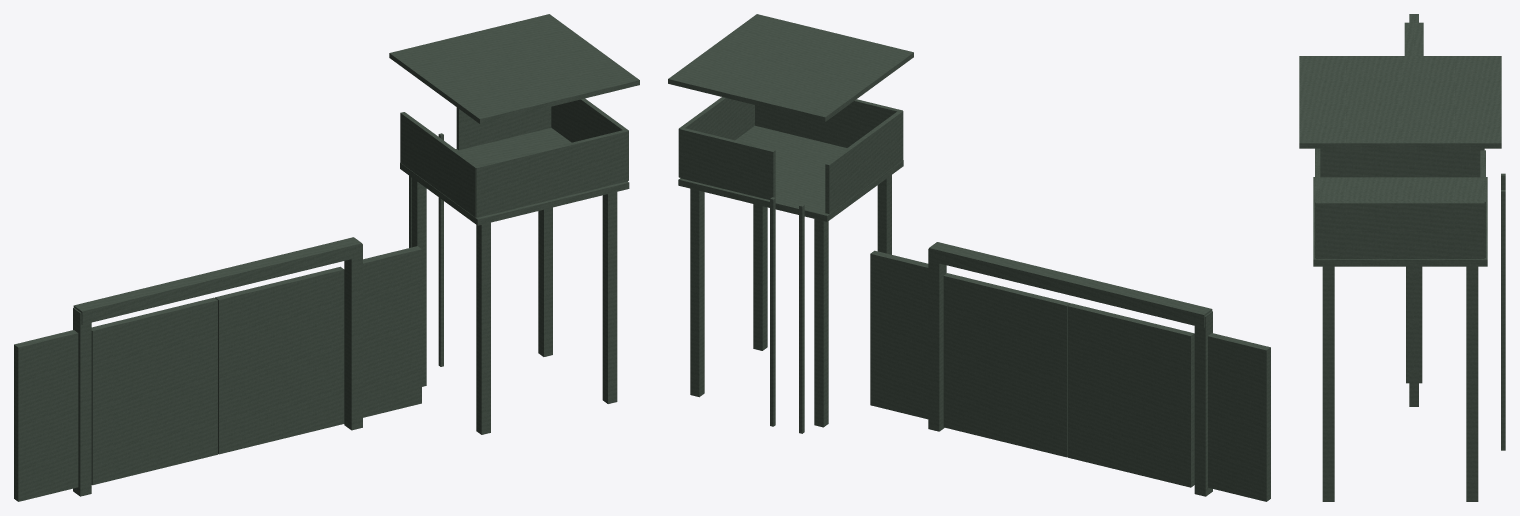
File: PZ_Blackline_Simple_Collision_HELPERS_ONLY.glb
3 views of the same model, side by side, from view 1: azimuth 30°, elevation 25°; view 2: azimuth 150°, elevation 25°; view 3: azimuth 270°, elevation 25° (orthographic). The views are drawn at different scales.
Visible parts, largest first — view 1: UCX_RightGate_SwingLeaf, UCX_LeftGate_SwingLeaf, UCX_Tower_Roof, UCX_Gate_WestWing, UCX_Gate_EastWing, UCX_Tower_BackRail, UCX_Gate_OverheadLintel, UCX_Tower_SideRail_L, UCX_Tower_Deck_Plate, UCX_Tower_Post_+1.50_+1.32, UCX_Gate_EastPillar, UCX_Tower_Post_-1.50_+1.32 (+6 smaller); view 2: UCX_LeftGate_SwingLeaf, UCX_RightGate_SwingLeaf, UCX_Tower_Roof, UCX_Gate_WestWing, UCX_Gate_EastWing, UCX_Tower_Deck_Plate, UCX_Gate_OverheadLintel, UCX_Tower_FrontRail_Right, UCX_Tower_SideRail_L, UCX_Tower_BackRail, UCX_Tower_Post_-1.50_-1.32, UCX_Tower_Post_+1.50_-1.32 (+7 smaller); view 3: UCX_Tower_Roof, UCX_Tower_SideRail_R, UCX_Tower_Deck_Plate, UCX_Tower_SideRail_L, UCX_Tower_Post_+1.50_-1.32, UCX_Tower_Post_+1.50_+1.32, UCX_Gate_EastWing, UCX_Ladder_Side_R, UCX_Gate_EastPillar, UCX_Gate_OverheadLintel, UCX_Tower_FrontRail_Right, UCX_Tower_BackRail.
Part boxes in pixels (bbox=[...]): UCX_RightGate_SwingLeaf: bbox=[215, 266, 344, 454]; UCX_LeftGate_SwingLeaf: bbox=[91, 297, 217, 485]; UCX_Tower_Roof: bbox=[389, 14, 639, 123]; UCX_Gate_WestWing: bbox=[14, 330, 78, 501]; UCX_Gate_EastWing: bbox=[363, 246, 421, 417]; UCX_Tower_BackRail: bbox=[475, 129, 628, 217]; UCX_Gate_OverheadLintel: bbox=[73, 237, 362, 324]; UCX_Tower_SideRail_L: bbox=[400, 112, 477, 217]; UCX_Tower_Deck_Plate: bbox=[400, 127, 629, 225]; UCX_Tower_Post_+1.50_+1.32: bbox=[602, 192, 617, 403]; UCX_Gate_EastPillar: bbox=[344, 244, 362, 430]; UCX_Tower_Post_-1.50_+1.32: bbox=[476, 222, 490, 434]; UCX_LeftGate_SwingLeaf: bbox=[1067, 303, 1194, 487]; UCX_RightGate_SwingLeaf: bbox=[943, 273, 1070, 457]; UCX_Tower_Roof: bbox=[668, 14, 913, 121]; UCX_Gate_WestWing: bbox=[1208, 333, 1270, 501]; UCX_Gate_EastWing: bbox=[870, 250, 928, 419]; UCX_Tower_Deck_Plate: bbox=[678, 125, 903, 221]; UCX_Gate_OverheadLintel: bbox=[929, 242, 1212, 327]; UCX_Tower_FrontRail_Right: bbox=[680, 128, 775, 199]; UCX_Tower_SideRail_L: bbox=[825, 110, 903, 213]; UCX_Tower_BackRail: bbox=[755, 99, 902, 147]; UCX_Tower_Post_-1.50_-1.32: bbox=[814, 219, 828, 427]; UCX_Tower_Post_+1.50_-1.32: bbox=[690, 188, 704, 397]; UCX_Tower_Roof: bbox=[1299, 56, 1501, 148]; UCX_Tower_SideRail_R: bbox=[1316, 201, 1484, 258]; UCX_Tower_Deck_Plate: bbox=[1313, 177, 1487, 266]; UCX_Tower_SideRail_L: bbox=[1320, 148, 1484, 177]; UCX_Tower_Post_+1.50_-1.32: bbox=[1466, 266, 1478, 501]; UCX_Tower_Post_+1.50_+1.32: bbox=[1322, 266, 1334, 501]; UCX_Gate_EastWing: bbox=[1409, 266, 1418, 406]; UCX_Ladder_Side_R: bbox=[1501, 190, 1505, 450]; UCX_Gate_EastPillar: bbox=[1406, 266, 1422, 383]; UCX_Gate_OverheadLintel: bbox=[1404, 22, 1423, 55]; UCX_Tower_FrontRail_Right: bbox=[1480, 150, 1485, 257]; UCX_Tower_BackRail: bbox=[1315, 148, 1320, 258].
Bounding box in the file's own units: 13.59 × 7.41 × 3.8.
1 material, 1 textured.
